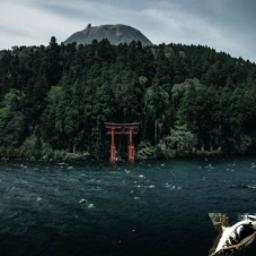Woodpecker: (209, 214, 256, 256)
